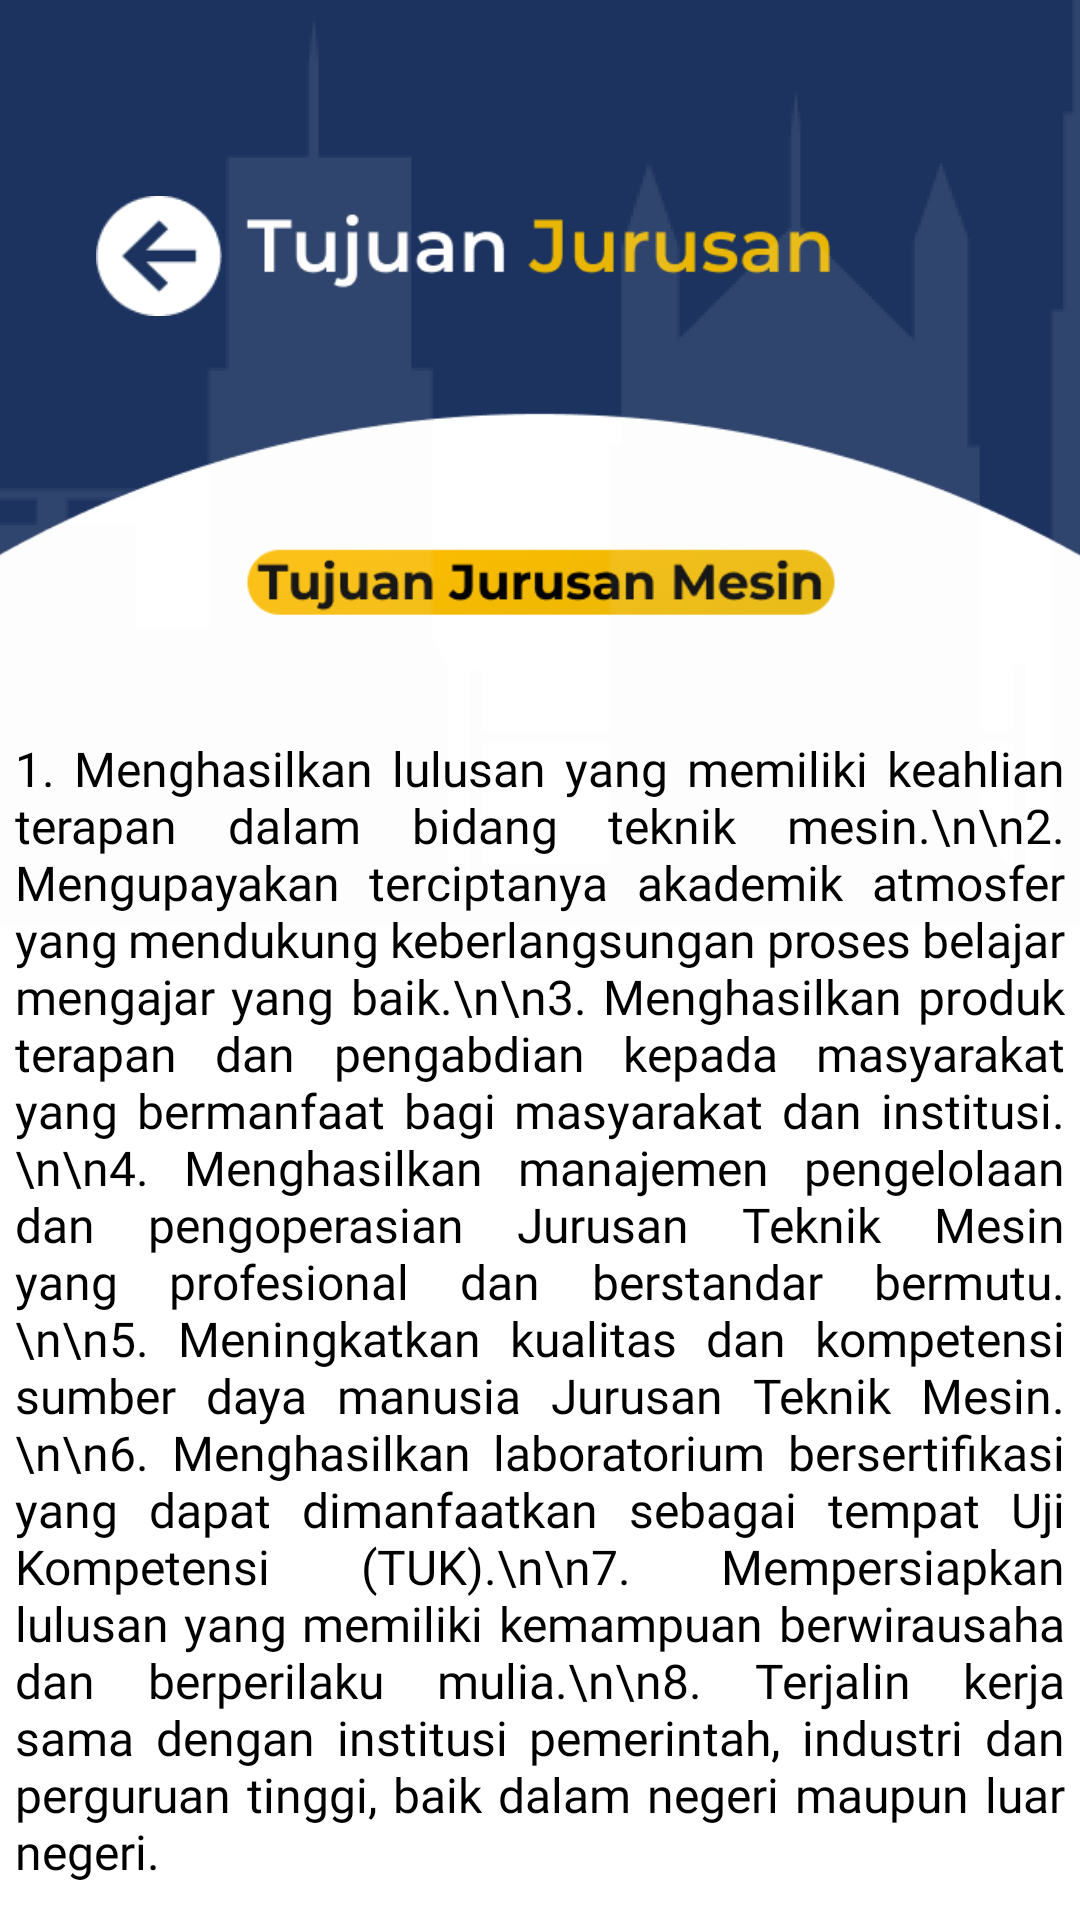

Locate icon controls on the screen. Image size 1080*1920, boxes as BBox(x1, y1, x2, y2).
butback: BBox(96, 196, 222, 316)
